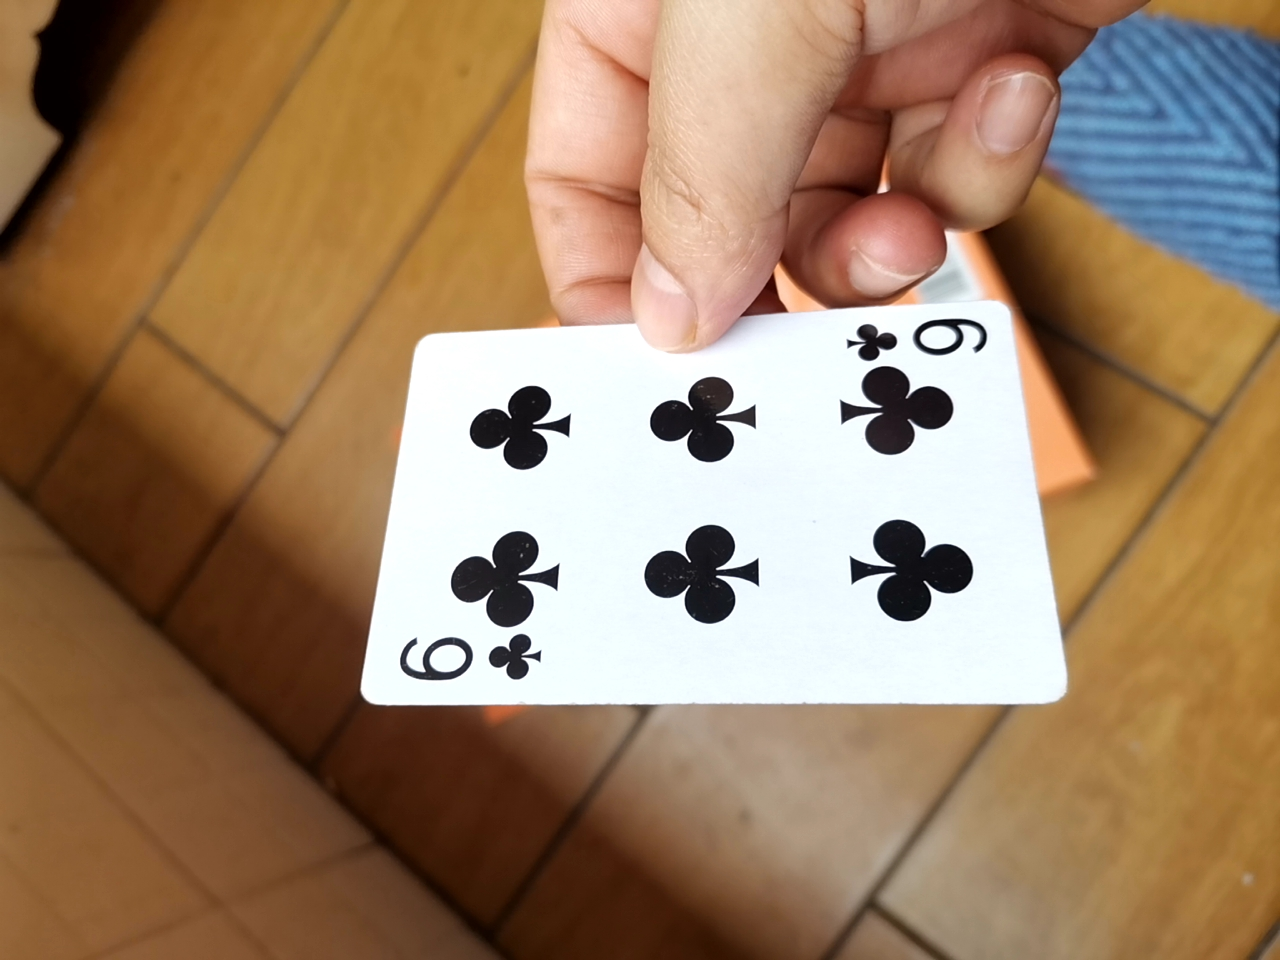mh 6: (342, 287, 1074, 719)
